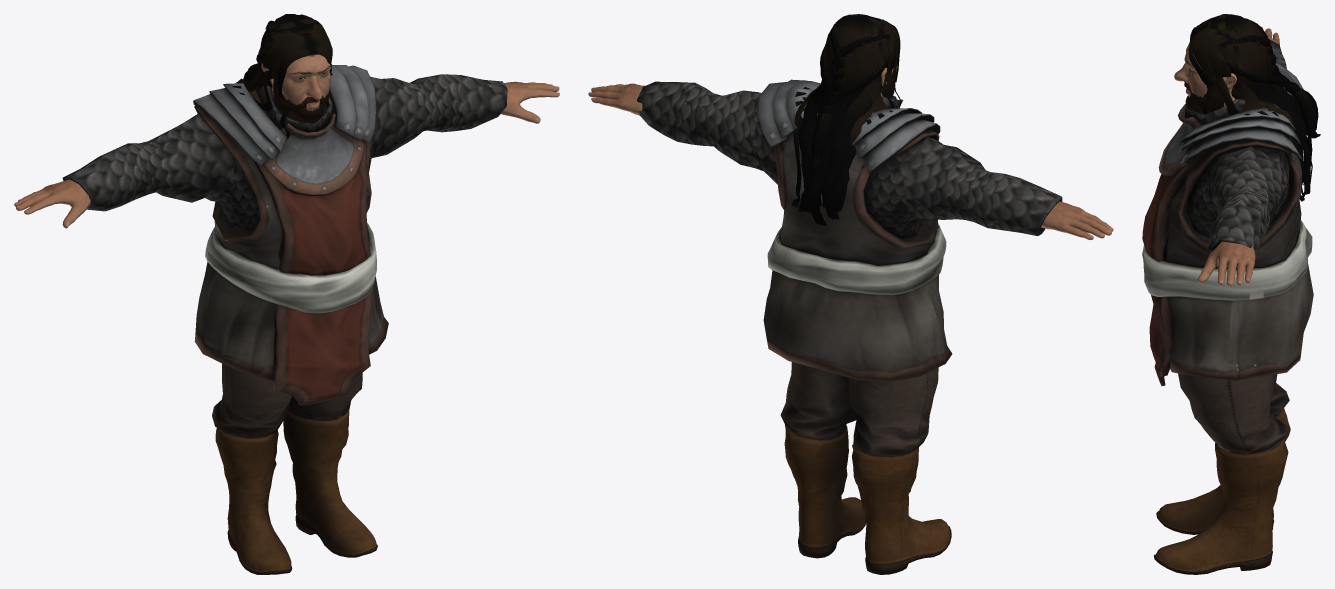
File: gimili.fbx
3 renders of one model, left to right at view 1: azimuth 30°, elevation 25°; view 2: azimuth 150°, elevation 25°; view 3: azimuth 270°, elevation 25°, orthographic.
Parts seen in each view (by area): view 1: gimili:Tops, gimili:Shoes, gimili:Bottoms, gimili:Body, gimili:Hair; view 2: gimili:Tops, gimili:Shoes, gimili:Hair, gimili:Bottoms, gimili:Body; view 3: gimili:Tops, gimili:Shoes, gimili:Hair, gimili:Bottoms, gimili:Body, gimili:Beards.
Boxes of the visible parts, x1=… form: gimili:Tops: x1=62, y1=64, x2=507, y2=405; gimili:Shoes: x1=215, y1=409, x2=377, y2=574; gimili:Bottoms: x1=212, y1=363, x2=362, y2=438; gimili:Body: x1=14, y1=54, x2=559, y2=228; gimili:Hair: x1=236, y1=14, x2=332, y2=138; gimili:Tops: x1=637, y1=79, x2=1062, y2=381; gimili:Shoes: x1=784, y1=425, x2=951, y2=574; gimili:Hair: x1=792, y1=14, x2=901, y2=225; gimili:Bottoms: x1=780, y1=362, x2=938, y2=456; gimili:Body: x1=588, y1=64, x2=1113, y2=240; gimili:Tops: x1=1142, y1=39, x2=1313, y2=386; gimili:Shoes: x1=1154, y1=408, x2=1290, y2=574; gimili:Hair: x1=1188, y1=14, x2=1320, y2=201; gimili:Bottoms: x1=1178, y1=373, x2=1289, y2=454; gimili:Body: x1=1174, y1=26, x2=1279, y2=286; gimili:Beards: x1=1185, y1=86, x2=1224, y2=113.
Size of the model in its own units: 154 by 147 by 44.84.
Materials: 7 (7 with a texture image).
